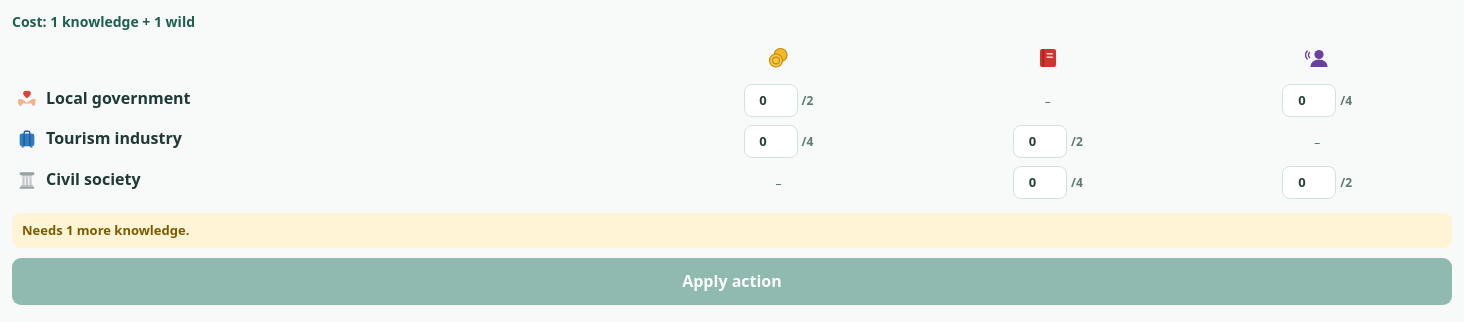
Test: FundingForm › never lets a team pay more than it holds
The width and height of the screenshot is (1464, 322).
Type "5" into the number field named "Local Government pays money (has 2)".
click(770, 101); type("5")  # box [744,84,798,117]
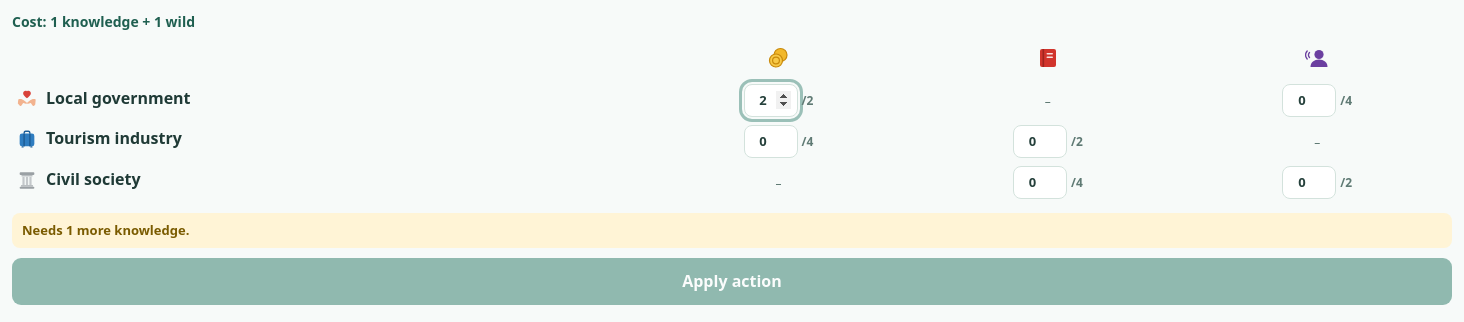
Now the number field named "Local Government pays money (has 2)" holds "2", box [744,84,798,117]
